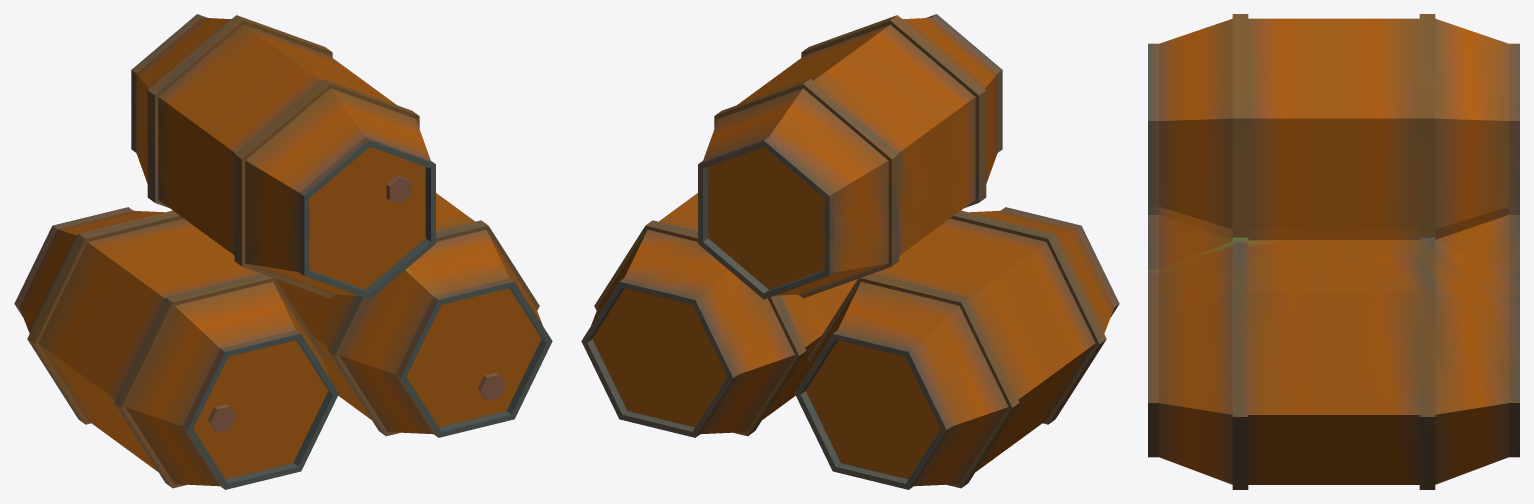
The model's file is kit-firewood.glb.
The picture shows the model from 3 angles, left to right: view 1: azimuth 30°, elevation 25°; view 2: azimuth 150°, elevation 25°; view 3: azimuth 270°, elevation 25°; orthographic projection. The views are drawn at different scales.
Parts seen in each view (by area): view 1: Cylinder.004; view 2: Cylinder.004; view 3: Cylinder.004.
Part boxes in pixels (x1,y1,x2,y2): Cylinder.004: (14,14,552,489); Cylinder.004: (581,14,1119,489); Cylinder.004: (1148,14,1519,489).
Bounding box in the file's own units: 1.08 × 0.8981 × 0.7697.
Materials: 1 (1 with a texture image).
